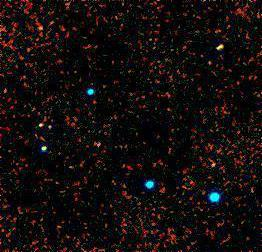star: (31, 118, 61, 148)
